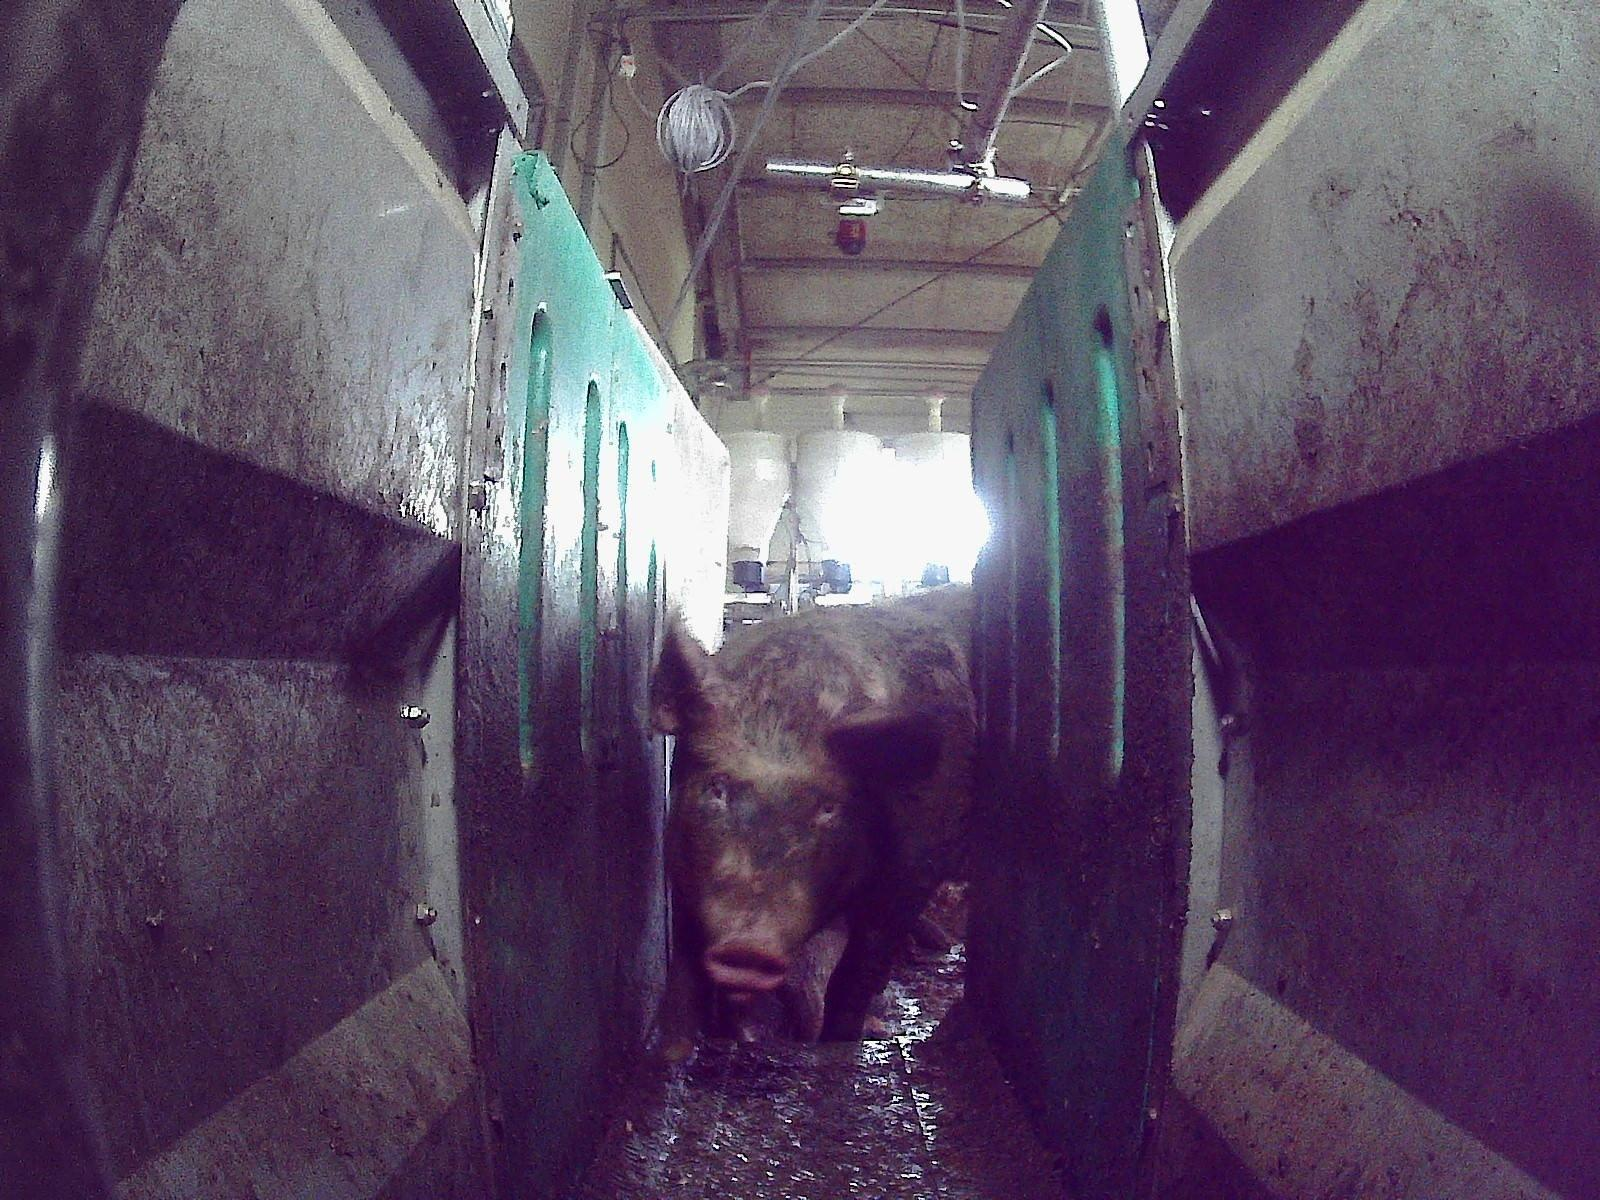Face: (669, 720, 859, 990)
